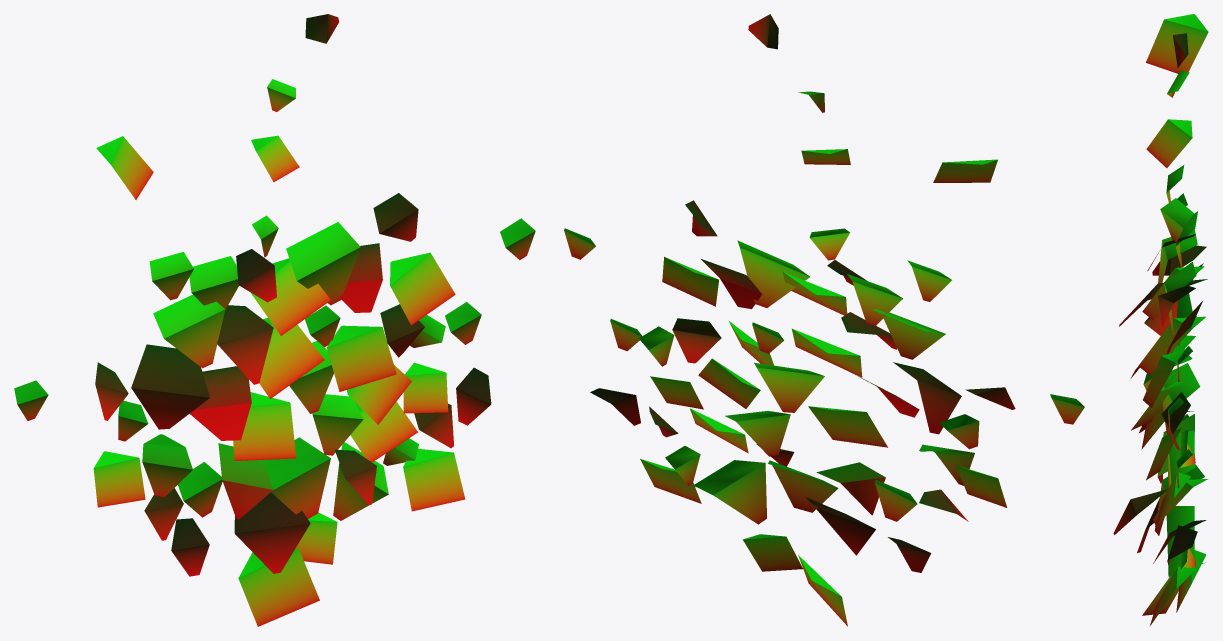
File: Lierre1_LOD1.fbx
3 views of the same model, side by side, from view 1: azimuth 30°, elevation 25°; view 2: azimuth 150°, elevation 25°; view 3: azimuth 270°, elevation 25° (orthographic). The views are drawn at different scales.
Parts seen in each view (by area): view 1: _b012_Var6_LOD2; view 2: _b012_Var6_LOD2; view 3: _b012_Var6_LOD2.
Boxes of the visible parts, x1,y1,x2,y2 form: _b012_Var6_LOD2: [14, 14, 535, 626]; _b012_Var6_LOD2: [564, 14, 1084, 626]; _b012_Var6_LOD2: [1113, 14, 1208, 625].
Bounding box in the file's own units: 42.17 × 46.13 × 6.47.
